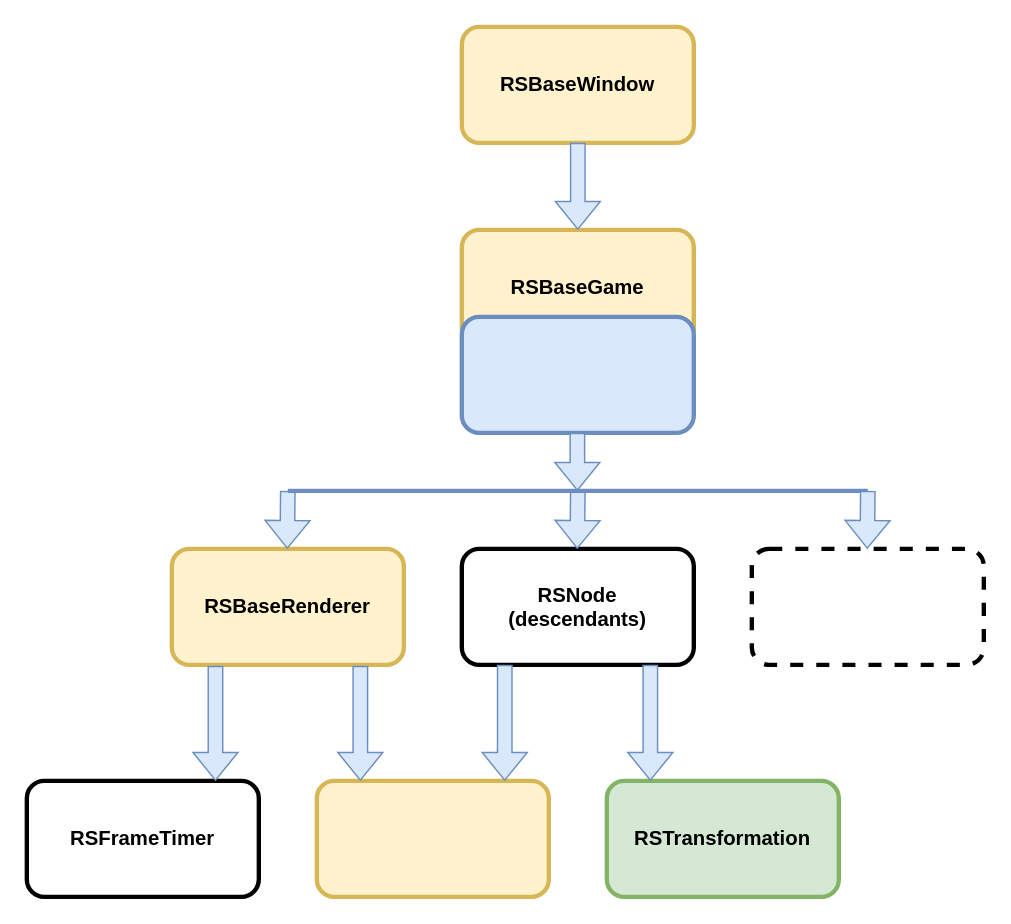
This 1011x924 diagram has some shape labels left out. Here are the shapes that lost their labels. From the top down, the box of each, then its label:
(459, 314, 695, 434): RSGameClock
(749, 546, 985, 666): Future
(314, 778, 550, 898): RSBaseCanvas
